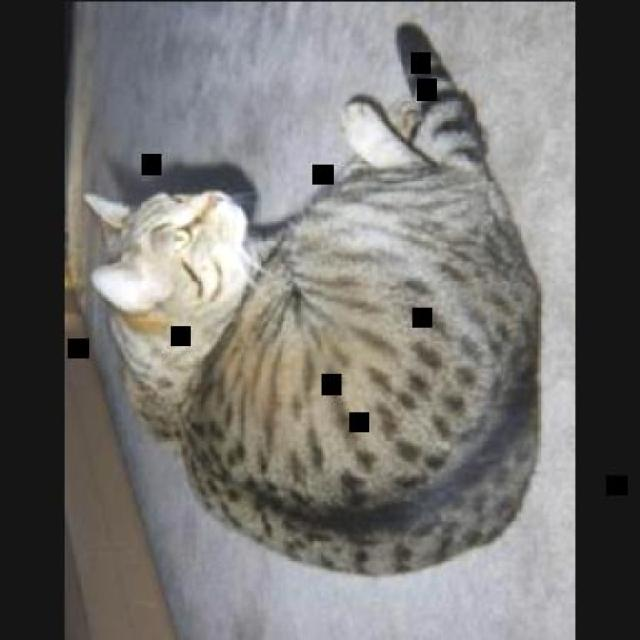unauthorized: (82, 20, 543, 575)
